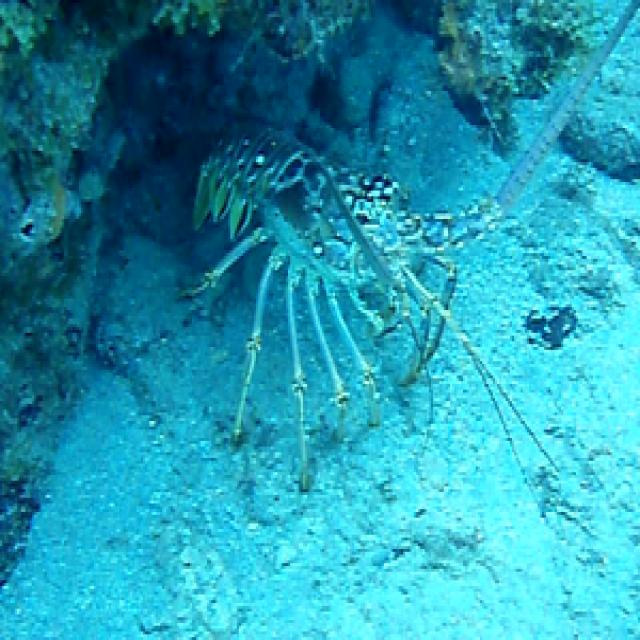lobsters: (161, 0, 571, 542)
